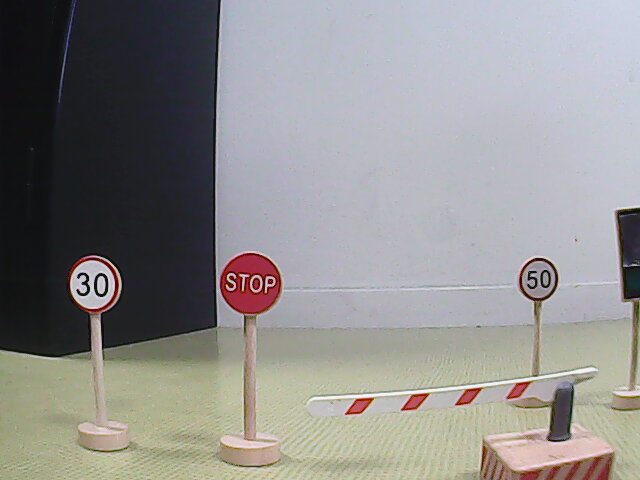barrier: (303, 365, 622, 480)
green_traffic_sign: (614, 211, 640, 303)
sign_30: (66, 256, 122, 313)
sign_50: (518, 255, 559, 301)
stop_sign: (219, 251, 284, 317)
